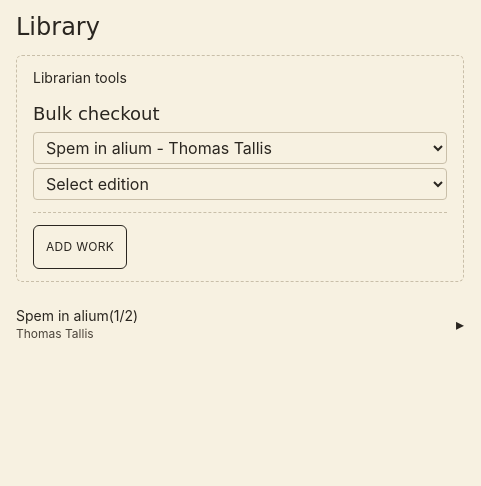
Scenario: #76 — inline checkout on browse tree › #361 — bulk checkout: both member-list branches (already-lent row, checkbox label) mark the name once
The width and height of the screenshot is (481, 486).
Select "40-part original" in the dropdown with test id "bulk-checkout-edition-select" at (240, 184), box [33,168,447,200]
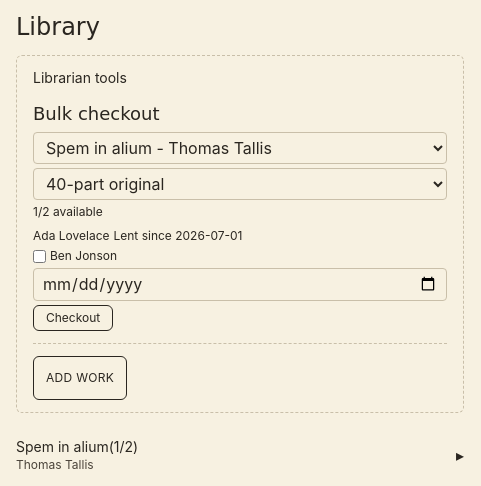
Check: the element with test id "bulk-checkout-member-list" is shown, box [33,228,242,263]
Check: the text "Lent since 2026-07-01" is shown, box [114,228,242,244]
Check: the element with test id "bulk-checkout-member-list" shows "Ada Lovelace", box [33,228,110,243]
